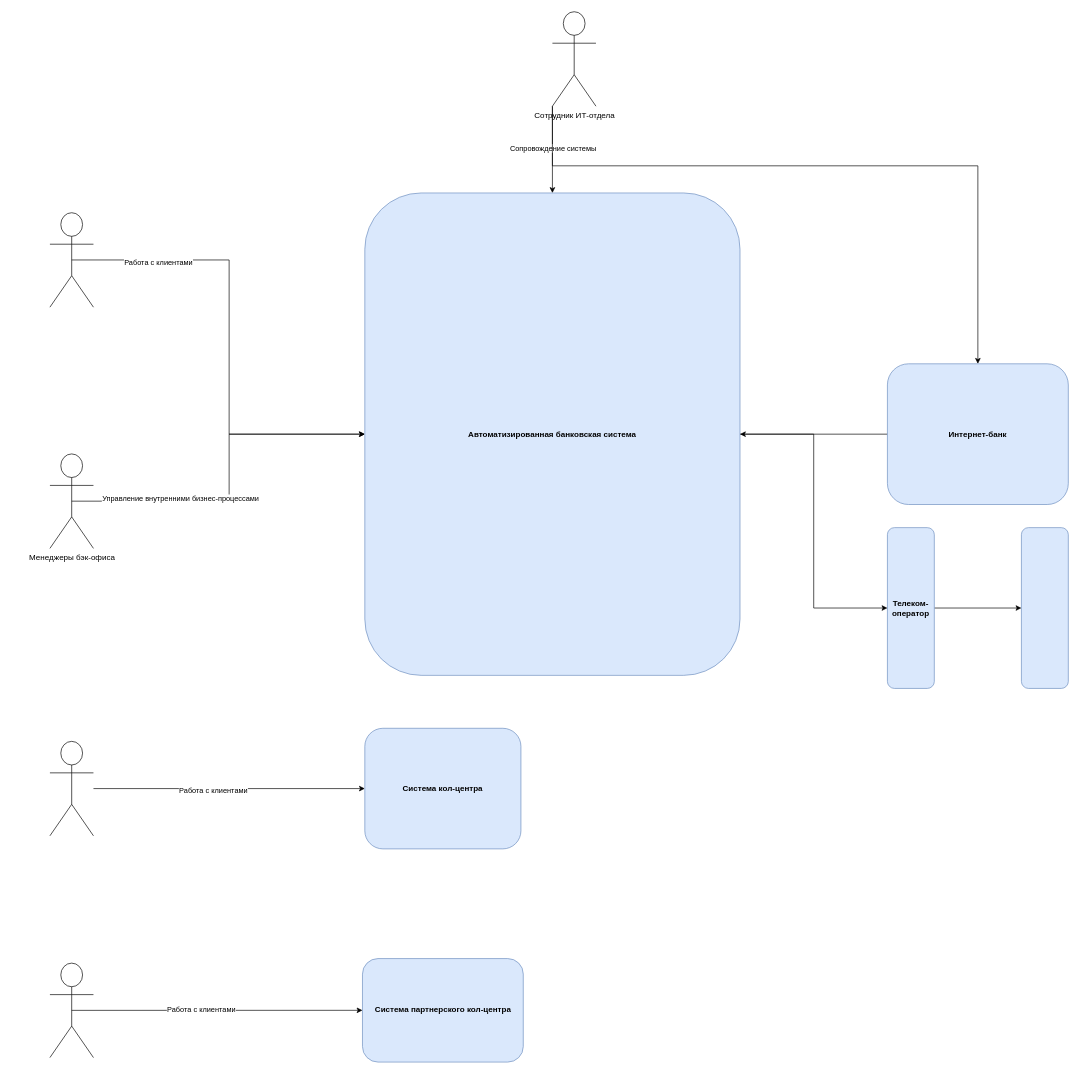
This 1080x1083 diagram has some shape labels left out. Each missing label, with the box of its shape:
Менеджеры фронт-офиса: (49, 212, 93, 307)
СМС-шлюз телеком-оператор: (1021, 527, 1068, 688)
Сотрудник внешнего кол-центра: (49, 962, 93, 1058)
Сотрудник кол-центра банка: (49, 741, 93, 836)
